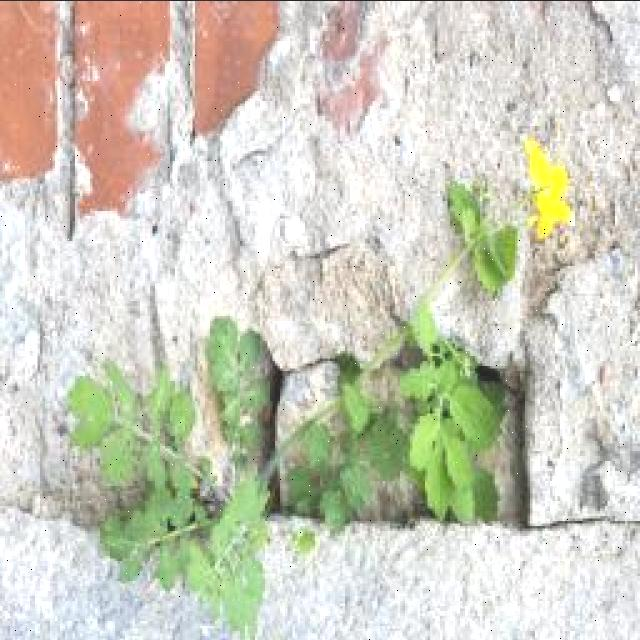crack: (233, 4, 627, 285), (32, 210, 50, 494), (142, 241, 173, 389), (161, 0, 180, 186), (63, 0, 80, 138), (582, 3, 616, 61), (291, 239, 355, 265), (66, 152, 81, 243), (430, 3, 443, 68)
vegetation: (62, 135, 574, 636), (67, 320, 280, 637), (205, 315, 272, 465)
